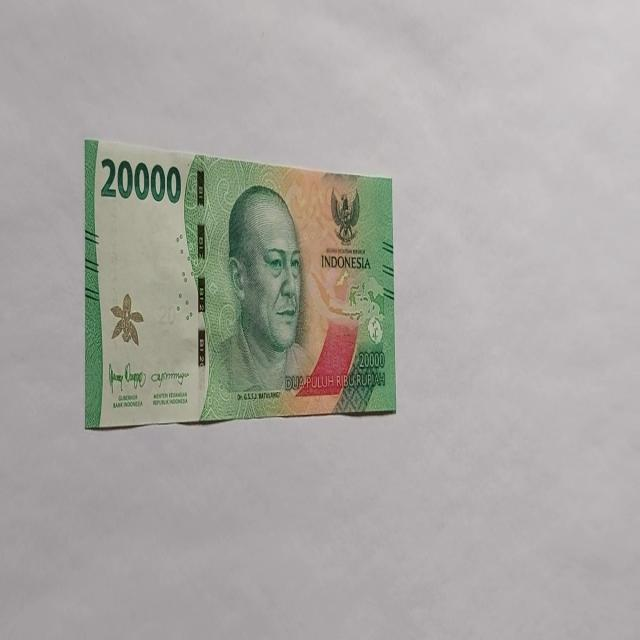dua puluh ribu rupiah: (83, 135, 397, 430), (221, 182, 311, 401)
